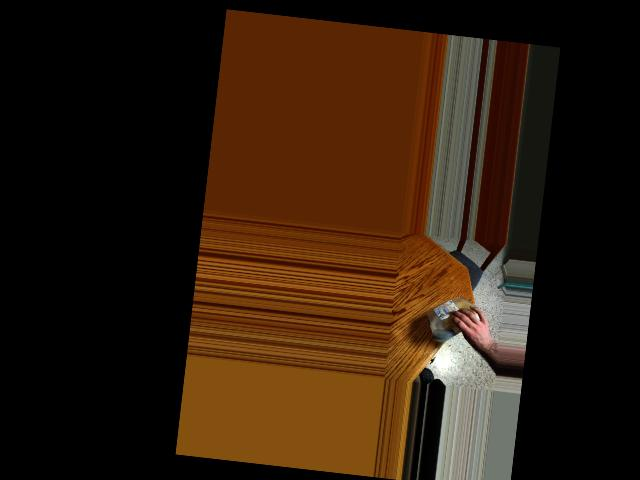cheese: (425, 292, 485, 343)
